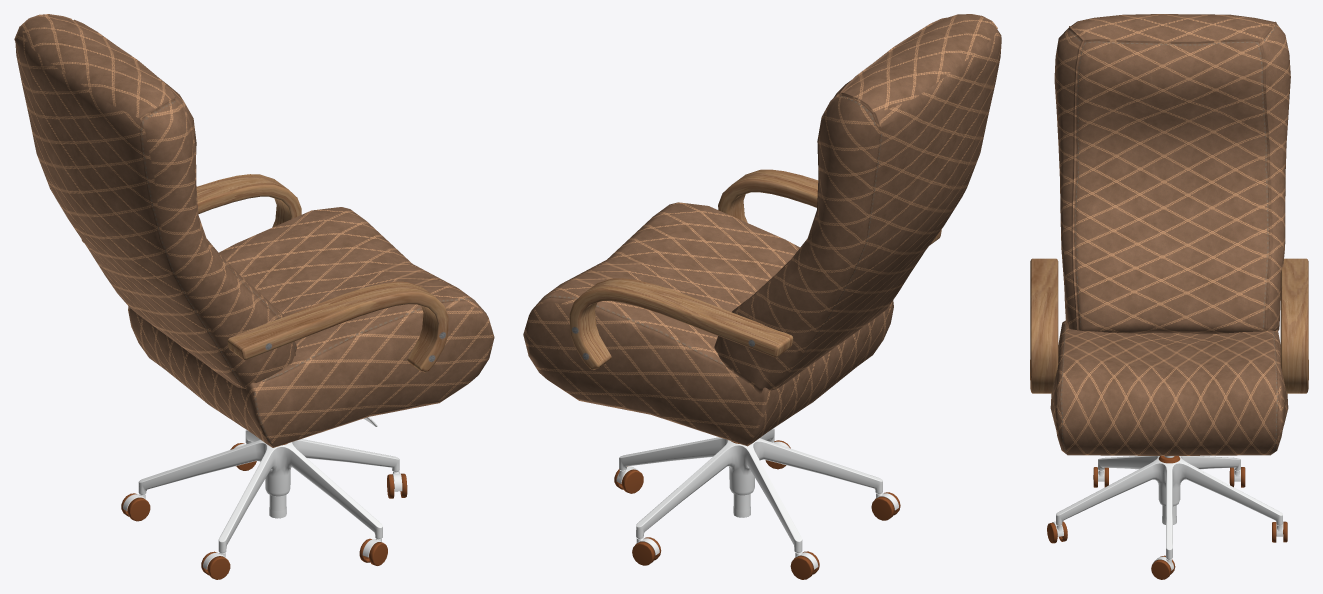
The model's file is SM_BrownMenagerChairLeather.fbx.
The picture shows the model from 3 angles, left to right: view 1: azimuth 30°, elevation 25°; view 2: azimuth 150°, elevation 25°; view 3: azimuth 270°, elevation 25°; orthographic projection. The views are drawn at different scales.
Visible parts, largest first — view 1: SM_BrownMenagerChairLeather_LOD0; view 2: SM_BrownMenagerChairLeather_LOD0; view 3: SM_BrownMenagerChairLeather_LOD0.
Boxes of the visible parts, x1,y1,x2,y2 form: SM_BrownMenagerChairLeather_LOD0: (14,14,494,579); SM_BrownMenagerChairLeather_LOD0: (523,14,1001,579); SM_BrownMenagerChairLeather_LOD0: (1030,14,1308,579).
Size of the model in its own units: 104 by 80.56 by 139.
Materials: 1 (1 with a texture image).
